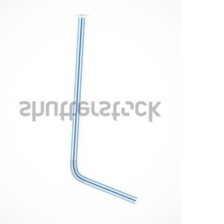drinking_straw: (64, 9, 142, 208)
